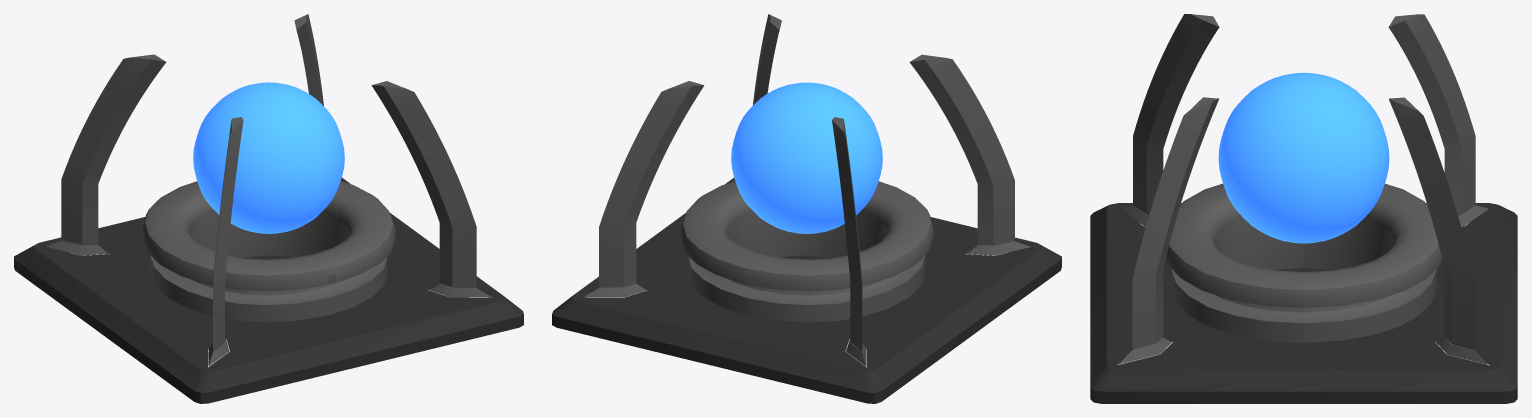
The model's file is newcore.fbx.
The picture shows the model from 3 angles, left to right: view 1: azimuth 30°, elevation 25°; view 2: azimuth 150°, elevation 25°; view 3: azimuth 270°, elevation 25°; orthographic projection. The views are drawn at different scales.
Visible parts, largest first — view 1: Plane; view 2: Plane; view 3: Plane.
Boxes of the visible parts, <box> form: Plane: <box>14,14,523,403</box>; Plane: <box>552,14,1061,403</box>; Plane: <box>1090,14,1517,403</box>.
Size of the model in its own units: 2000 by 1315 by 2000.
